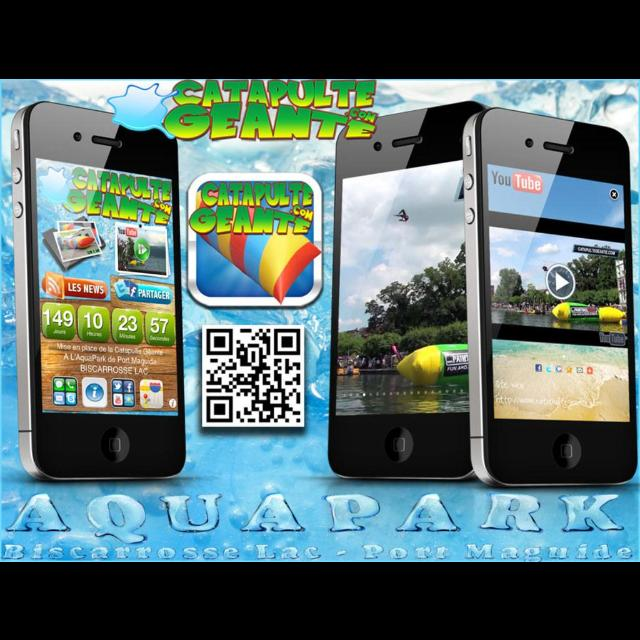Smartphone: (8, 100, 195, 488), (460, 92, 640, 490), (331, 104, 464, 480)
